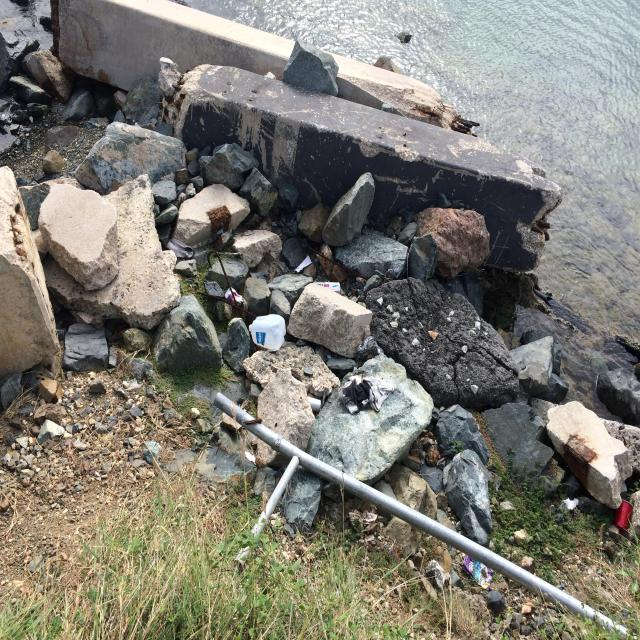litter: (245, 310, 292, 354)
